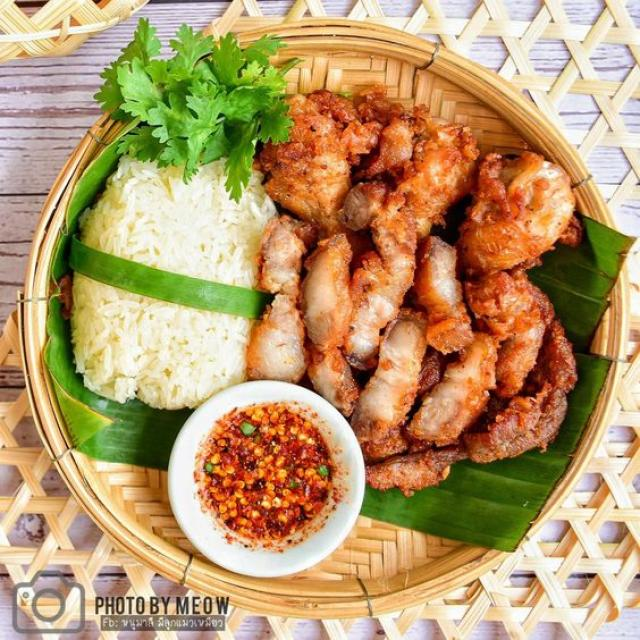Carbohydrate: (71, 143, 254, 396)
Kaow-Friedpork: (21, 9, 632, 618)
Protein: (254, 86, 574, 484)
Vegetable: (80, 14, 294, 184)
